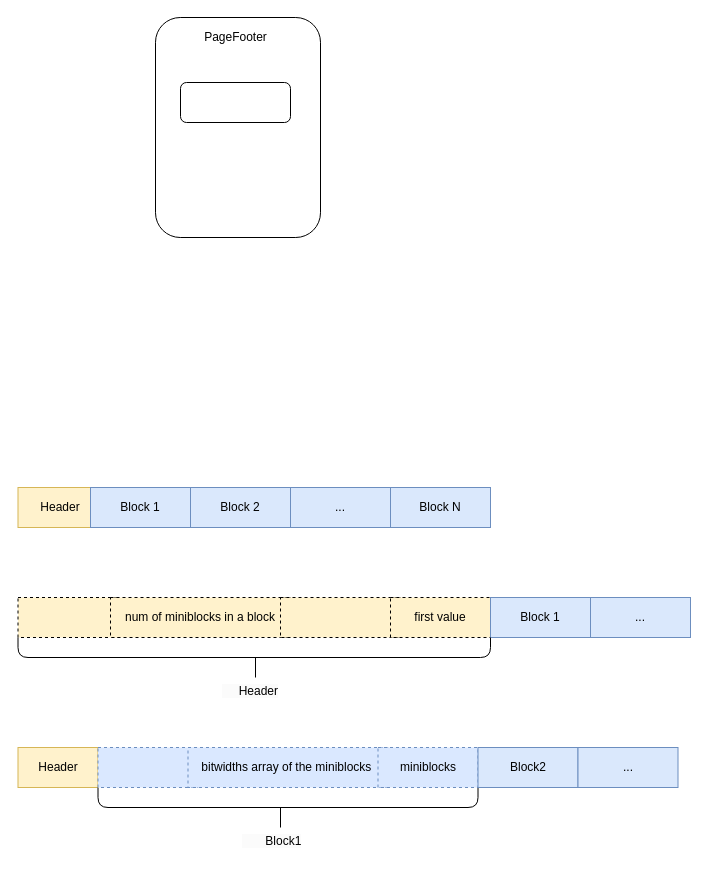
The diagram is 708 pixels wide and 875 high, and some of its shapes have lost their labels. The shapes that lost their labels are listed below. From the top down, each one's centre as x and y in pixels, then its label:
At [67,617]: "block size".
At [340,617]: "total value count".
At [147,767]: "min delta".
